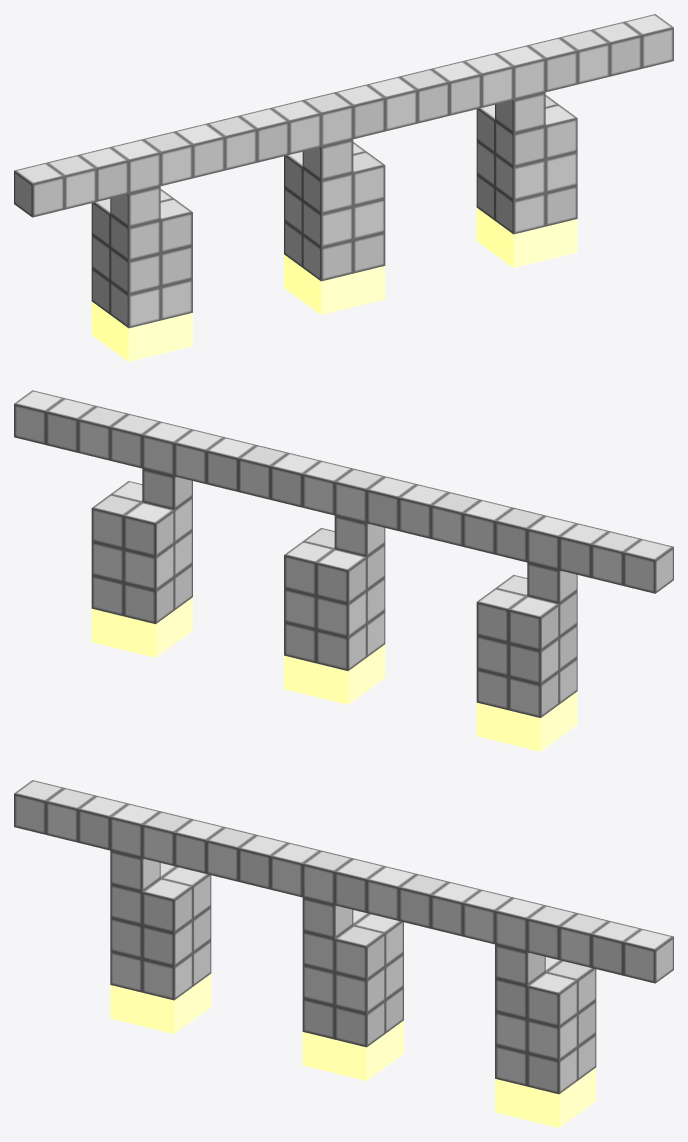
File: track_light.glb
3 views of the same model, one above another, from view 1: azimuth 30°, elevation 25°; view 2: azimuth 150°, elevation 25°; view 3: azimuth 330°, elevation 25° (orthographic).
Visible parts, largest first — view 1: track_light; view 2: track_light; view 3: track_light.
Part boxes in pixels (box(x1,y1,x2,y2)): track_light: box(14, 14, 673, 361); track_light: box(14, 390, 673, 751); track_light: box(14, 780, 673, 1127).
Size of the model in its own units: 1 by 0.3 by 0.1.
Materials: 3 (2 with a texture image).
